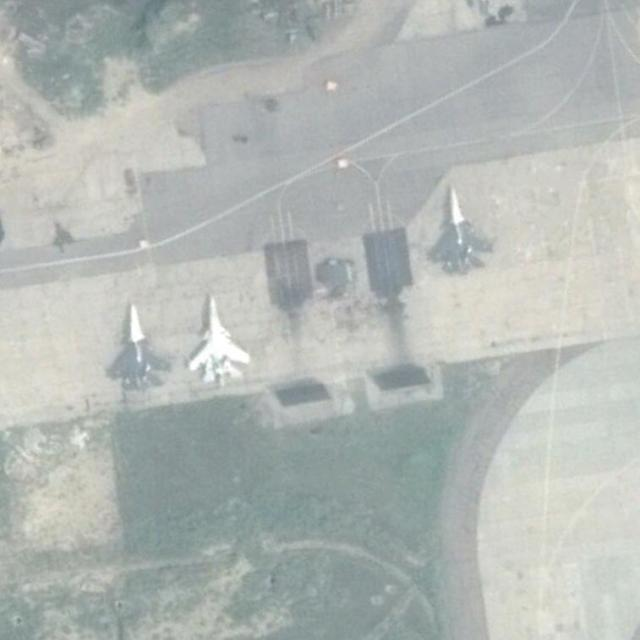fighter jet: (105, 301, 168, 386), (191, 292, 250, 377), (431, 185, 487, 272)
